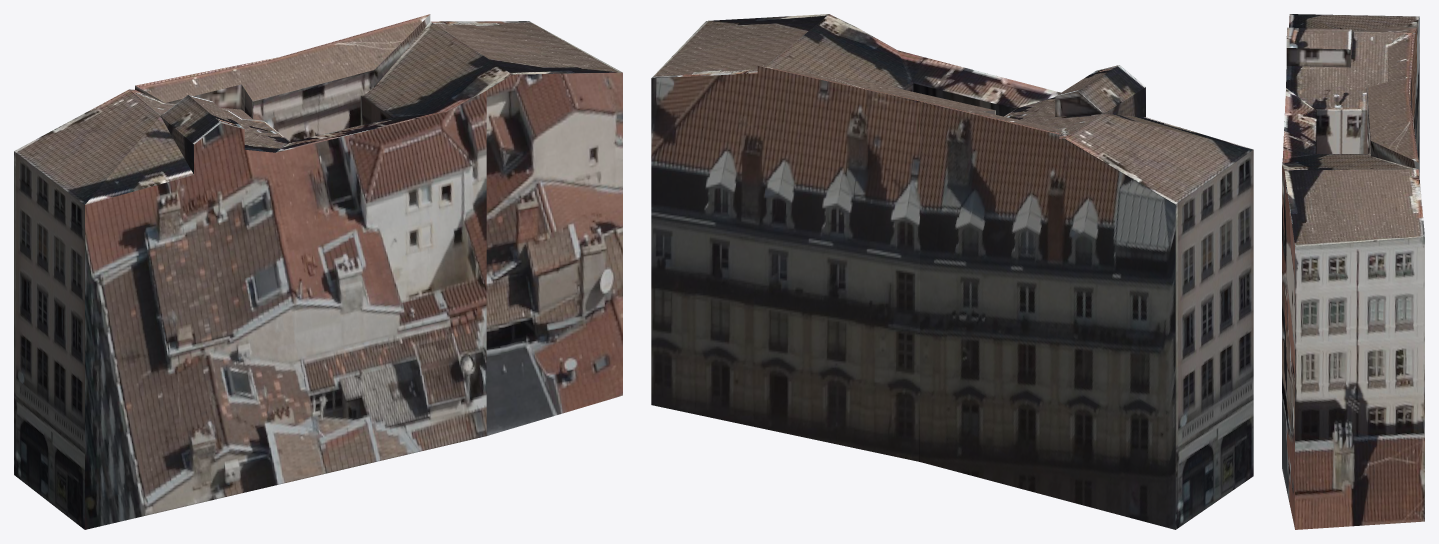
3 renders of one model, left to right at view 1: azimuth 30°, elevation 25°; view 2: azimuth 150°, elevation 25°; view 3: azimuth 270°, elevation 25°, orthographic. The views are drawn at different scales.
Parts seen in each view (by area): view 1: Z_UP; view 2: Z_UP; view 3: Z_UP.
Part boxes in pixels (bbox=[...]): Z_UP: bbox=[14, 14, 622, 529]; Z_UP: bbox=[651, 14, 1253, 529]; Z_UP: bbox=[1282, 14, 1424, 529].
Bounding box in the file's own units: 36.51 × 24.17 × 9.53.
Materials: 2 (1 with a texture image).
